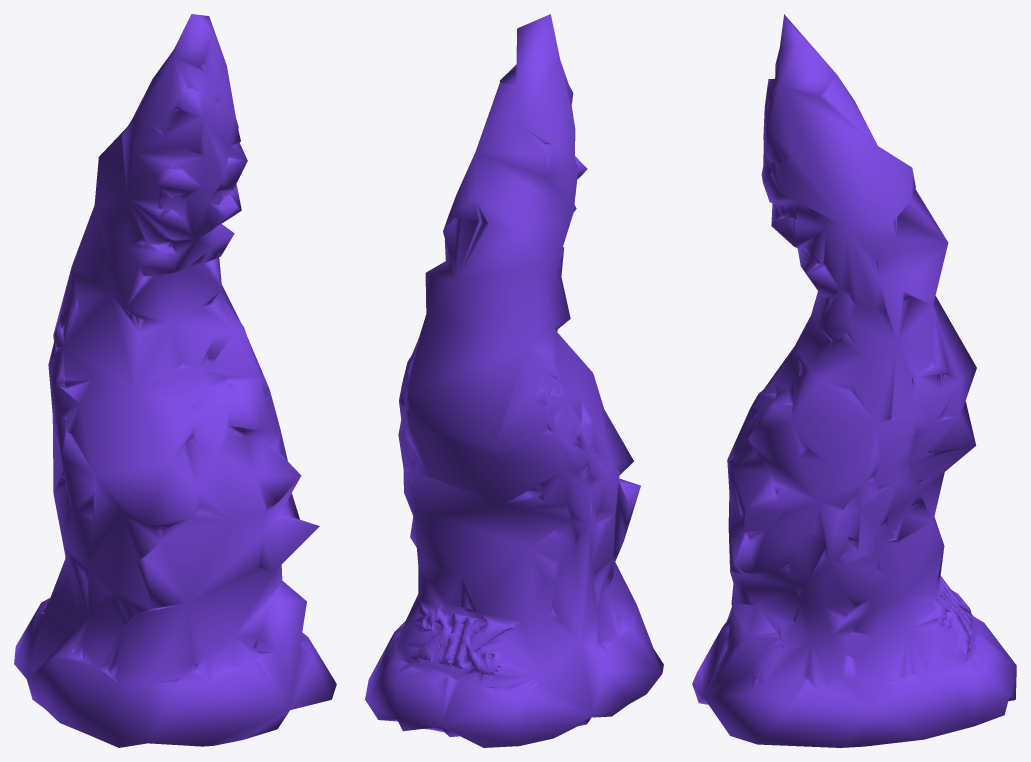
Rendered from large-mast-ar.glb.
The picture shows the model from 3 angles, left to right: view 1: azimuth 30°, elevation 25°; view 2: azimuth 150°, elevation 25°; view 3: azimuth 270°, elevation 25°; orthographic projection. The views are drawn at different scales.
Bounding box in the file's own units: 0.1126 × 0.2905 × 0.1277.
